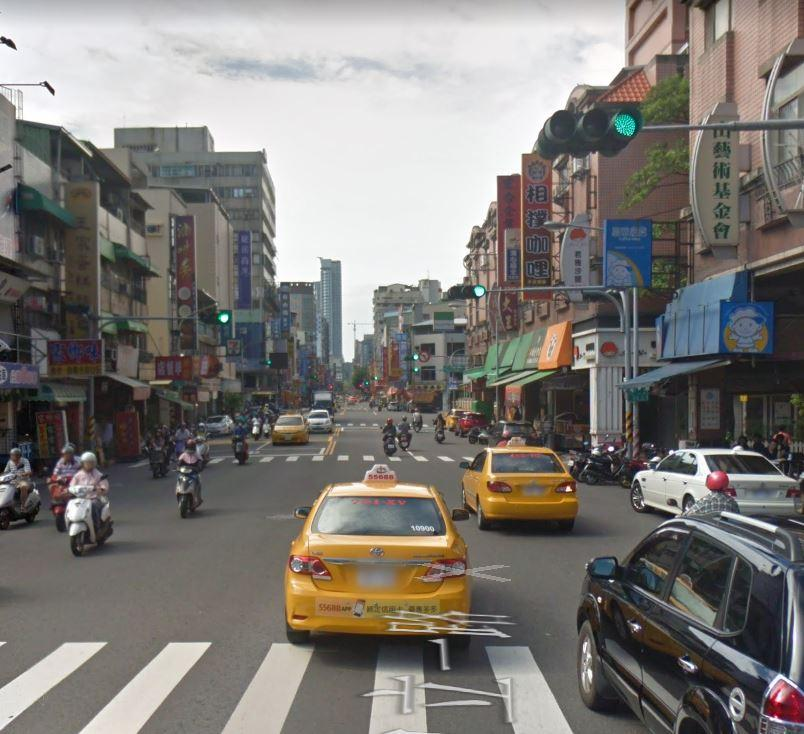car: (574, 505, 804, 734), (282, 458, 477, 651), (622, 430, 804, 525), (464, 433, 589, 535), (266, 401, 315, 447), (306, 408, 332, 434)
green_traffic_light: (533, 103, 644, 162), (193, 309, 233, 327), (444, 284, 486, 301)
motorcycle: (0, 436, 44, 525), (64, 480, 113, 553), (48, 440, 89, 525), (170, 459, 207, 517)
